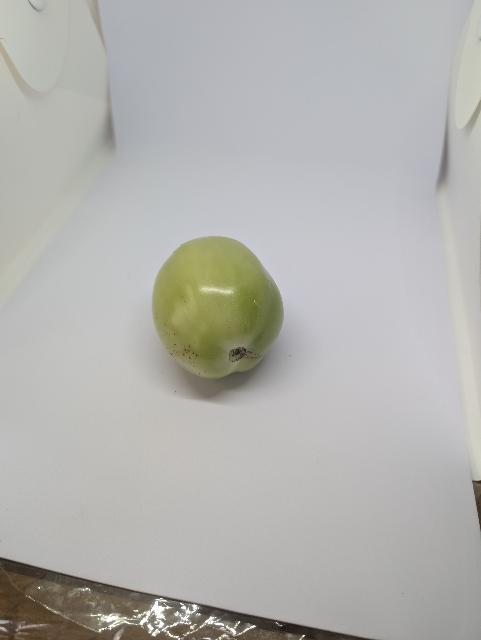green: (150, 236, 286, 381)
